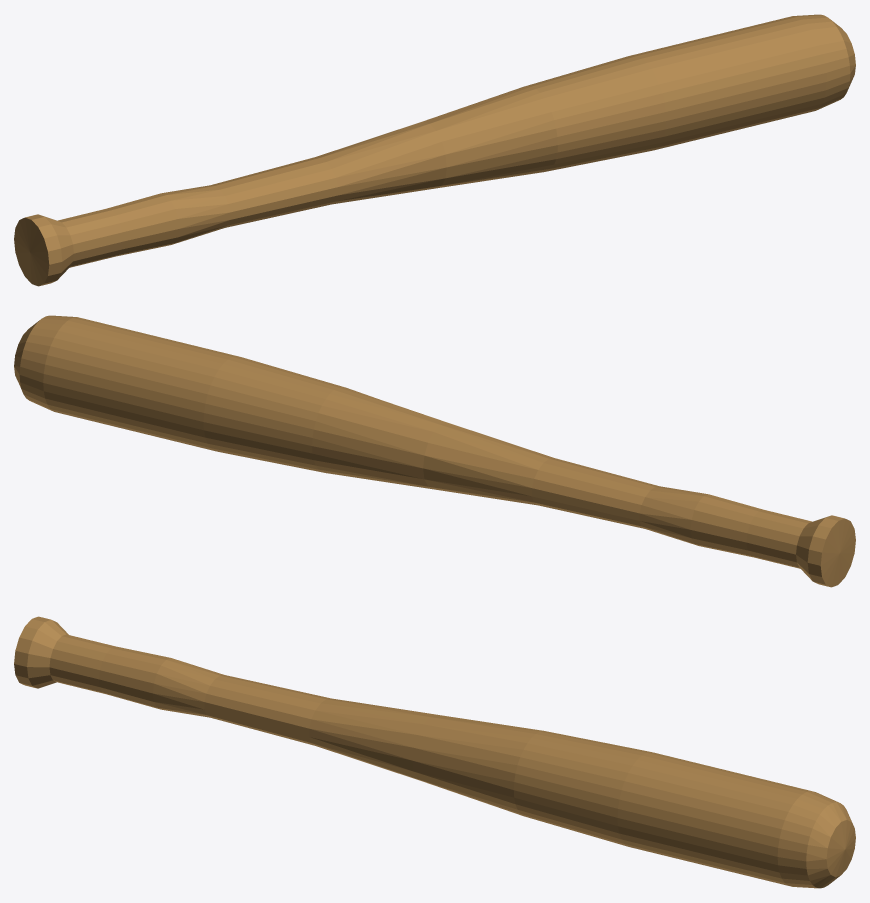
Rendered from Bat.fbx.
3 views of the same model, one above another, from view 1: azimuth 30°, elevation 25°; view 2: azimuth 150°, elevation 25°; view 3: azimuth 330°, elevation 25° (orthographic).
Visible parts, largest first — view 1: Cylinder; view 2: Cylinder; view 3: Cylinder.
Part boxes in pixels (x1,y1,x2,y2): Cylinder: (14,14,855,286); Cylinder: (14,315,855,587); Cylinder: (14,616,855,888).
Size of the model in its own units: 230 by 24 by 24.
